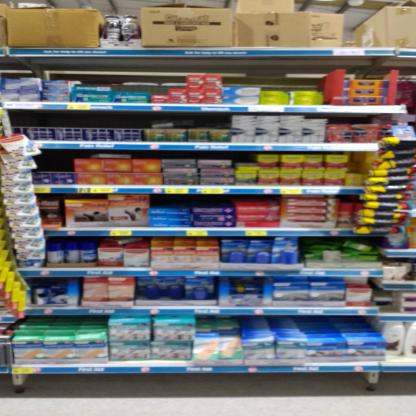Void: (16, 110, 139, 128), (127, 149, 251, 162), (154, 196, 227, 211), (265, 75, 320, 90), (119, 76, 160, 92), (194, 112, 227, 126), (46, 152, 69, 171), (225, 74, 261, 86), (333, 114, 371, 122), (237, 195, 278, 202), (83, 78, 114, 86), (301, 237, 330, 245), (162, 77, 185, 87), (340, 193, 361, 203), (383, 304, 395, 310)
